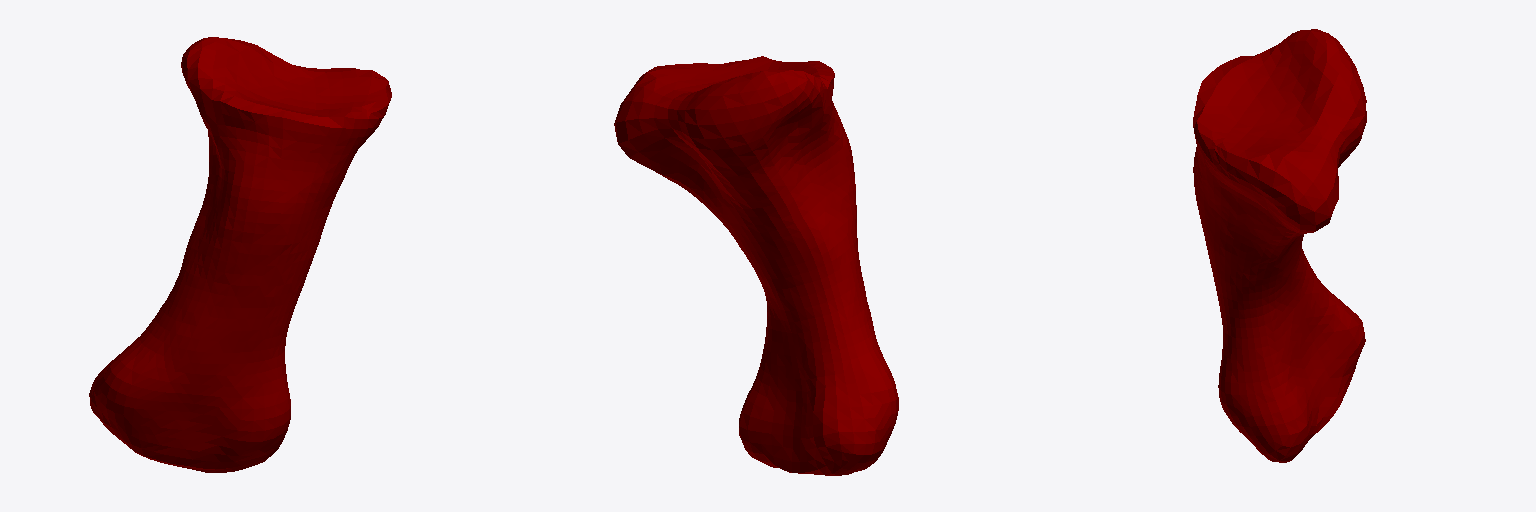
File: ProximalPhalanx_4.obj
3 views of the same model, side by side, from view 1: azimuth 30°, elevation 25°; view 2: azimuth 150°, elevation 25°; view 3: azimuth 270°, elevation 25° (orthographic).
Visible parts, largest first — view 1: Object_0ProximalPhalanx_4; view 2: Object_0ProximalPhalanx_4; view 3: Object_0ProximalPhalanx_4.
Boxes of the visible parts, box(x1,y1,x2,y2) form: Object_0ProximalPhalanx_4: box(89, 37, 391, 472); Object_0ProximalPhalanx_4: box(614, 56, 898, 475); Object_0ProximalPhalanx_4: box(1193, 29, 1366, 462).
Bounding box in the file's own units: 19.1 × 27.22 × 10.33.